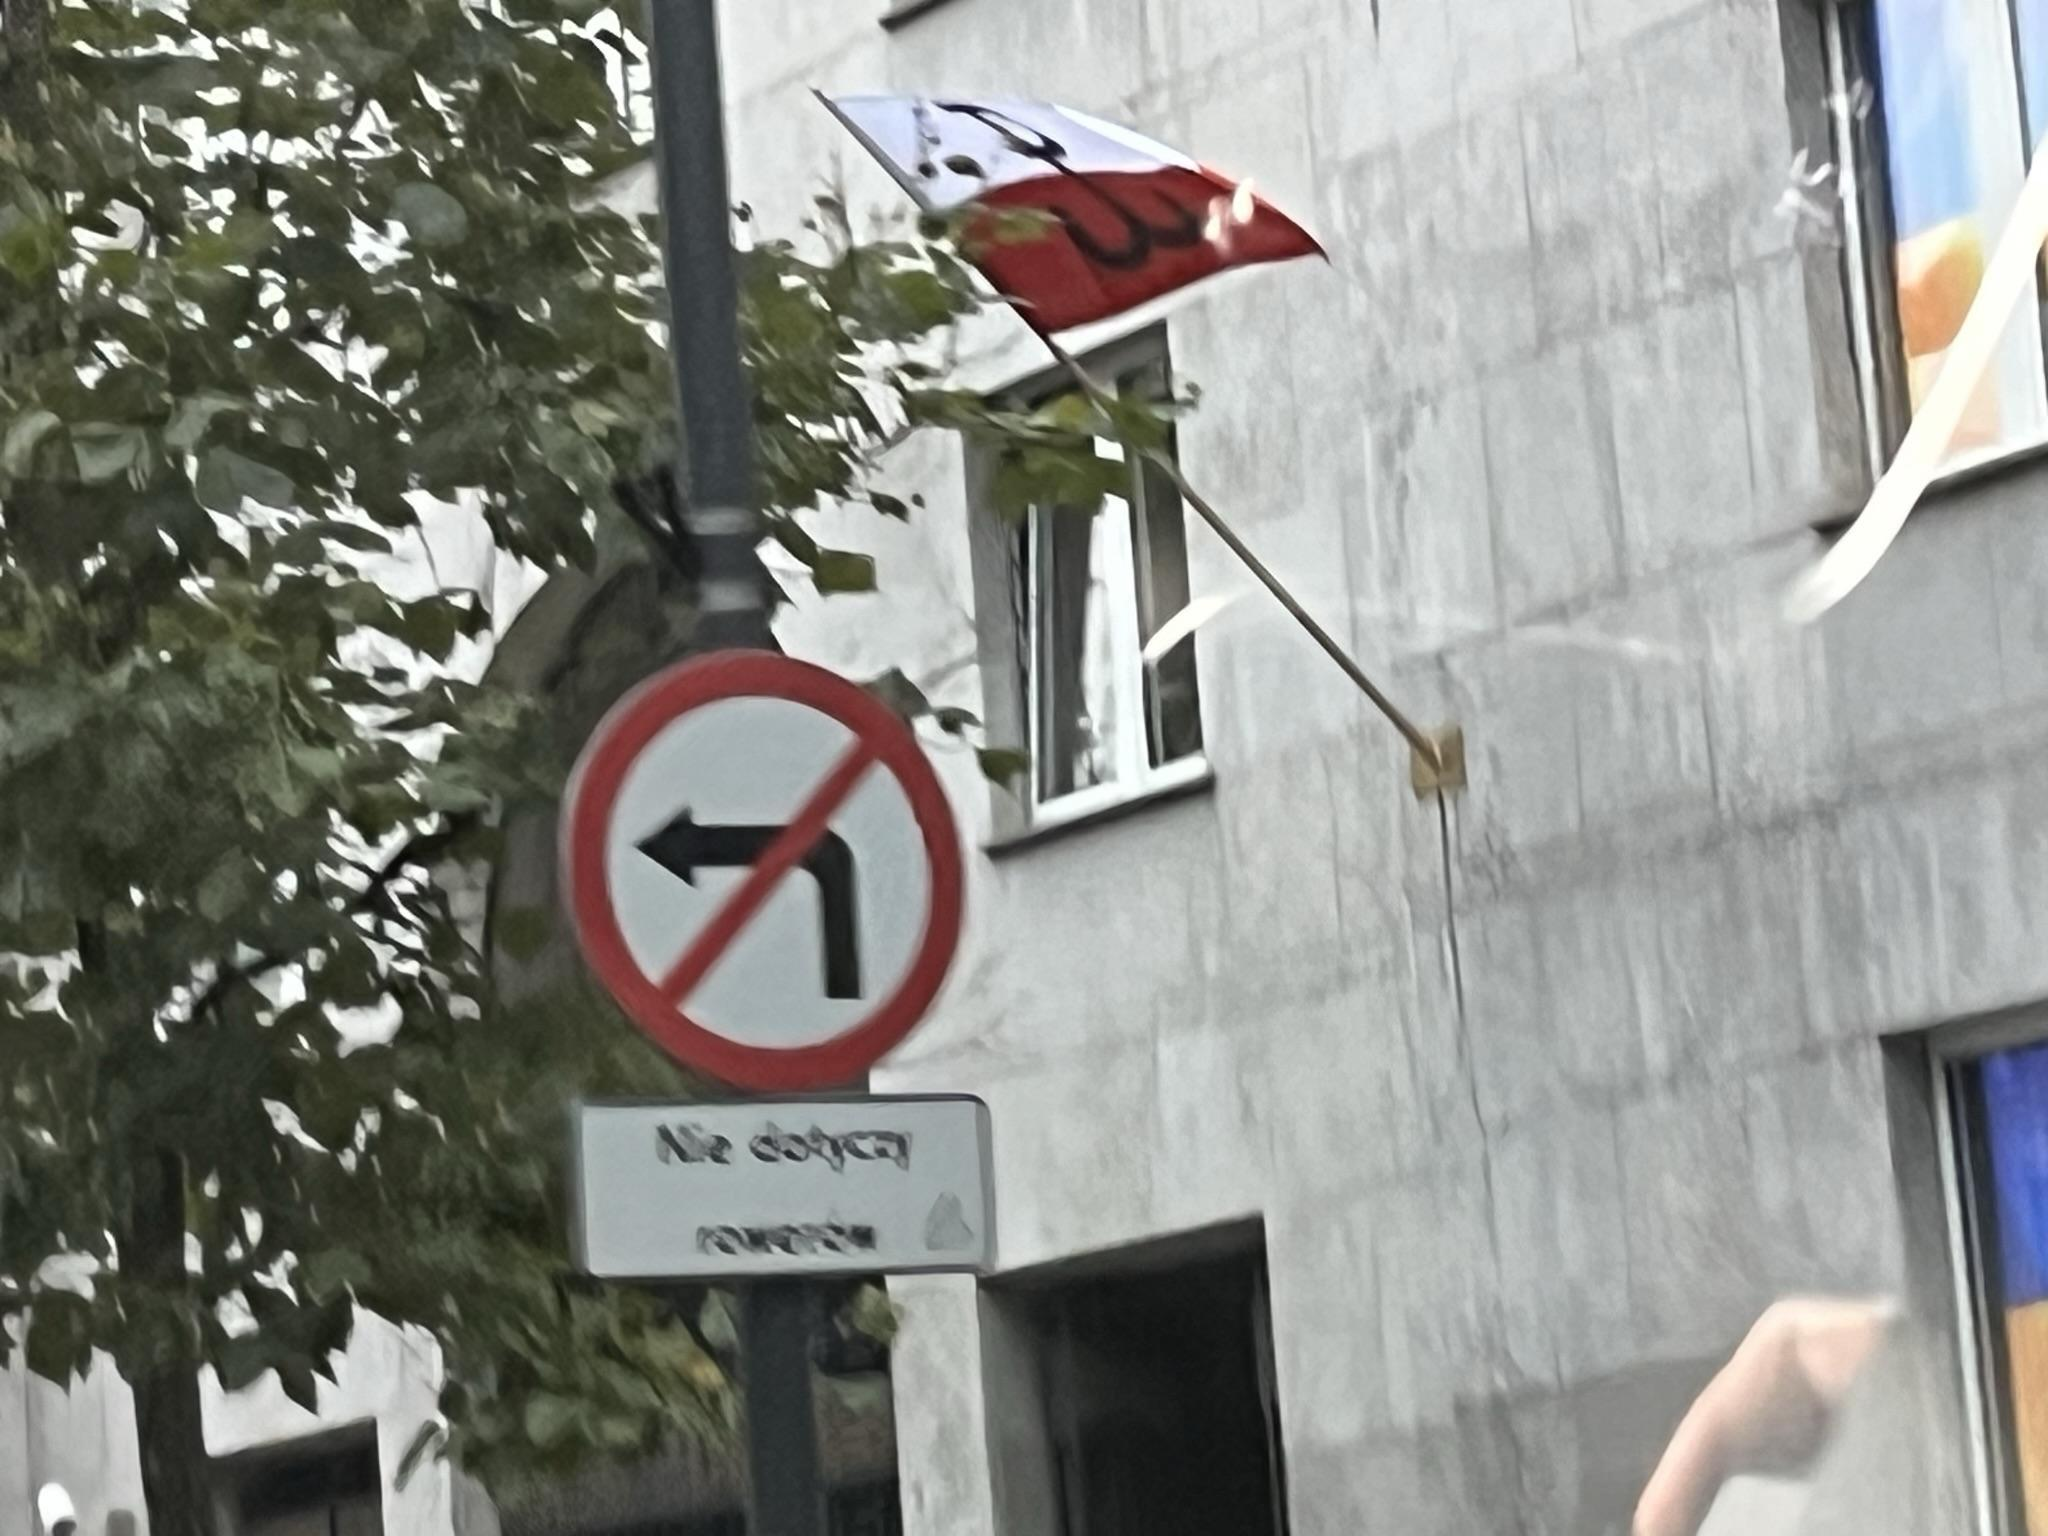other: (568, 1099, 998, 1283)
prohibitory: (555, 644, 972, 1099)
